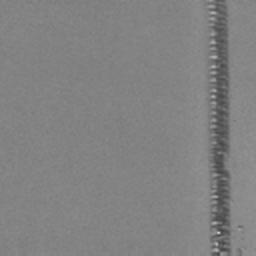Slag inclusion: (210, 0, 231, 256)
